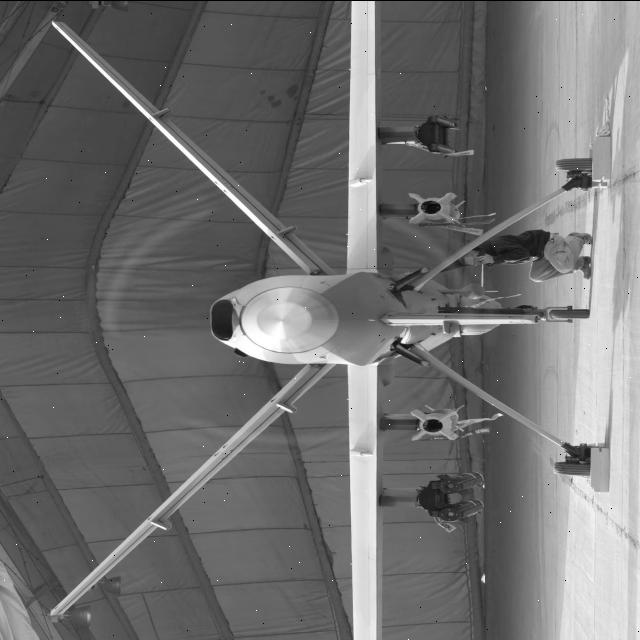MQ9: (18, 6, 606, 640)
